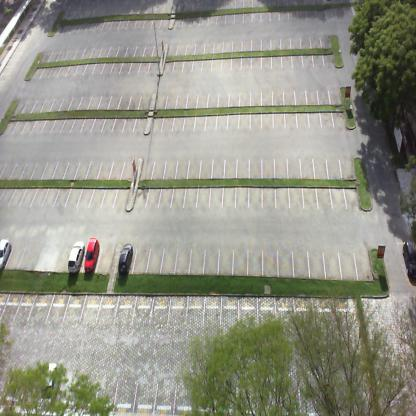car: (68, 240, 87, 274), (402, 241, 416, 286), (82, 240, 100, 273), (42, 364, 57, 398), (118, 242, 134, 272), (0, 238, 13, 270)
